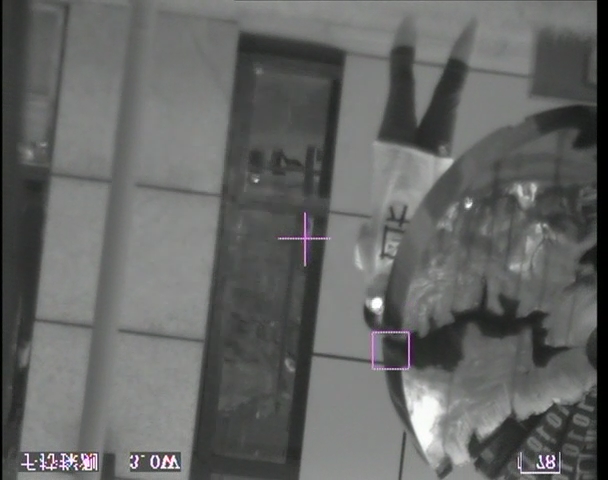my: (371, 296, 383, 310)
